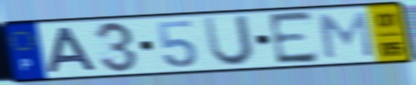3: (92, 20, 140, 75)
5: (154, 18, 200, 70)
A: (45, 25, 100, 75)
E: (265, 9, 322, 67)
M: (316, 10, 377, 61)
U: (201, 13, 258, 69)
